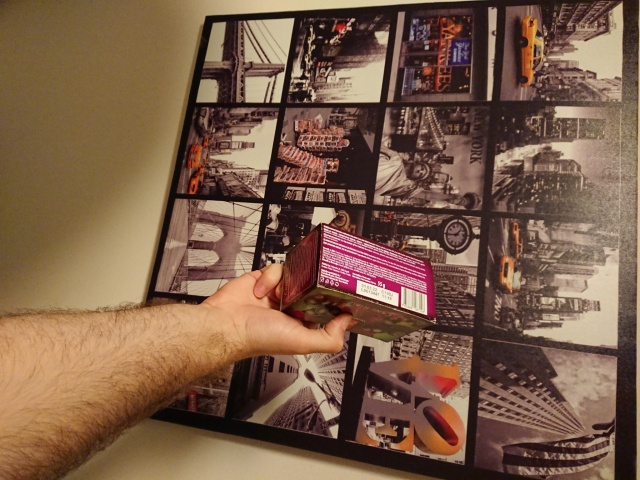Franck Black Currant Tea 60g: (277, 220, 439, 345)
